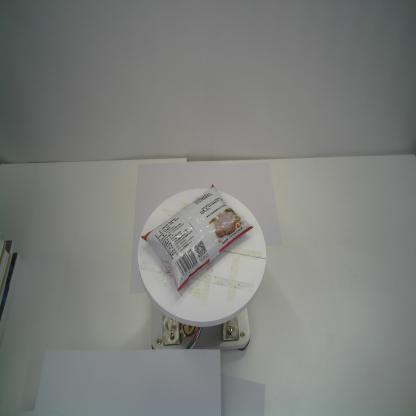Seasoner: (140, 181, 254, 294)
